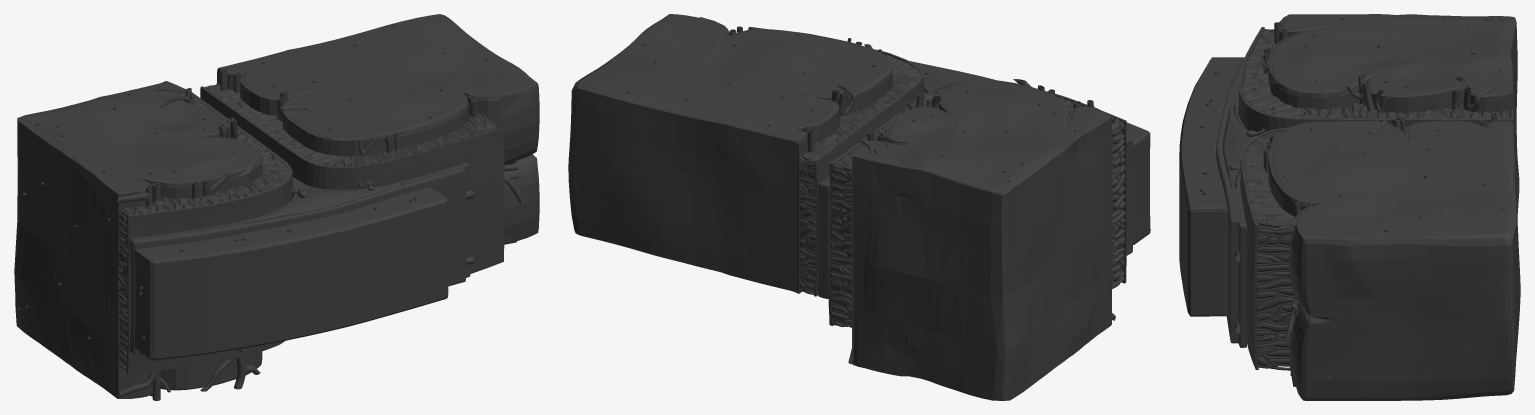
Rendered from sharedassets65.glb.
3 renders of one model, left to right at view 1: azimuth 30°, elevation 25°; view 2: azimuth 150°, elevation 25°; view 3: azimuth 270°, elevation 25°, orthographic. The views are drawn at different scales.
Parts seen in each view (by area): view 1: 0013_Cranium _neurocranium, braincase___30414, 0001_Cerebral medulla _white matter___304142, 0006_Cerebral cortex _gray matter___304143, 0011_Arachnoid mater__304138, 0000_Pia mater__304130, 0014_Cerebrospinal fluid _in subarachnoid spa, 0002_Dura mater, periosteal layer__304132, 0004_Arachnoid trabeculae__304137, 0015_Cerebral arteries__304147, 0012_Cerebral veins__304146, 0008_Dura mater, meningeal layer__304133, 0010_Superior sagittal sinus__304145; view 2: 0001_Cerebral medulla _white matter___304142, 0006_Cerebral cortex _gray matter___304143, 0014_Cerebrospinal fluid _in subarachnoid spa, 0004_Arachnoid trabeculae__304137, 0011_Arachnoid mater__304138, 0000_Pia mater__304130, 0013_Cranium _neurocranium, braincase___30414, 0003_Falx cerebri__304131, 0015_Cerebral arteries__304147, 0012_Cerebral veins__304146, 0002_Dura mater, periosteal layer__304132; view 3: 0001_Cerebral medulla _white matter___304142, 0006_Cerebral cortex _gray matter___304143, 0013_Cranium _neurocranium, braincase___30414, 0014_Cerebrospinal fluid _in subarachnoid spa, 0000_Pia mater__304130, 0011_Arachnoid mater__304138, 0004_Arachnoid trabeculae__304137, 0002_Dura mater, periosteal layer__304132, 0008_Dura mater, meningeal layer__304133, 0012_Cerebral veins__304146, 0015_Cerebral arteries__304147, 0010_Superior sagittal sinus__304145.
Part boxes in pixels (x1,y1,x2,y2): 0013_Cranium _neurocranium, braincase___30414: (134, 187, 448, 360); 0001_Cerebral medulla _white matter___304142: (14, 14, 518, 362); 0006_Cerebral cortex _gray matter___304143: (66, 50, 539, 398); 0011_Arachnoid mater__304138: (127, 86, 504, 374); 0000_Pia mater__304130: (113, 67, 519, 398); 0014_Cerebrospinal fluid _in subarachnoid spa: (118, 85, 493, 369); 0002_Dura mater, periosteal layer__304132: (131, 167, 466, 354); 0004_Arachnoid trabeculae__304137: (118, 82, 498, 370); 0015_Cerebral arteries__304147: (117, 72, 518, 400); 0012_Cerebral veins__304146: (117, 69, 521, 396); 0008_Dura mater, meningeal layer__304133: (129, 162, 470, 351); 0010_Superior sagittal sinus__304145: (246, 183, 402, 223); 0001_Cerebral medulla _white matter___304142: (568, 29, 1095, 400); 0006_Cerebral cortex _gray matter___304143: (646, 14, 1111, 378); 0014_Cerebrospinal fluid _in subarachnoid spa: (799, 54, 1125, 327); 0004_Arachnoid trabeculae__304137: (749, 29, 1123, 327); 0011_Arachnoid mater__304138: (748, 27, 1126, 325); 0000_Pia mater__304130: (700, 17, 1111, 365); 0013_Cranium _neurocranium, braincase___30414: (909, 61, 1150, 244); 0003_Falx cerebri__304131: (818, 176, 829, 298); 0015_Cerebral arteries__304147: (729, 26, 1115, 364); 0012_Cerebral veins__304146: (807, 38, 1115, 153); 0002_Dura mater, periosteal layer__304132: (923, 74, 1132, 253); 0001_Cerebral medulla _white matter___304142: (1308, 14, 1520, 400); 0006_Cerebral cortex _gray matter___304143: (1270, 14, 1519, 400); 0013_Cranium _neurocranium, braincase___30414: (1179, 57, 1244, 316); 0014_Cerebrospinal fluid _in subarachnoid spa: (1241, 29, 1514, 366); 0000_Pia mater__304130: (1268, 14, 1514, 386); 0011_Arachnoid mater__304138: (1238, 27, 1514, 369); 0004_Arachnoid trabeculae__304137: (1241, 29, 1513, 370); 0002_Dura mater, periosteal layer__304132: (1216, 57, 1244, 343); 0008_Dura mater, meningeal layer__304133: (1233, 80, 1256, 347); 0012_Cerebral veins__304146: (1235, 16, 1500, 343); 0015_Cerebral arteries__304147: (1234, 28, 1487, 375); 0010_Superior sagittal sinus__304145: (1223, 105, 1256, 188).
Size of the model in its own units: 0.3375 by 0.1647 by 0.2105.
Materials: 1 (1 with a texture image).
